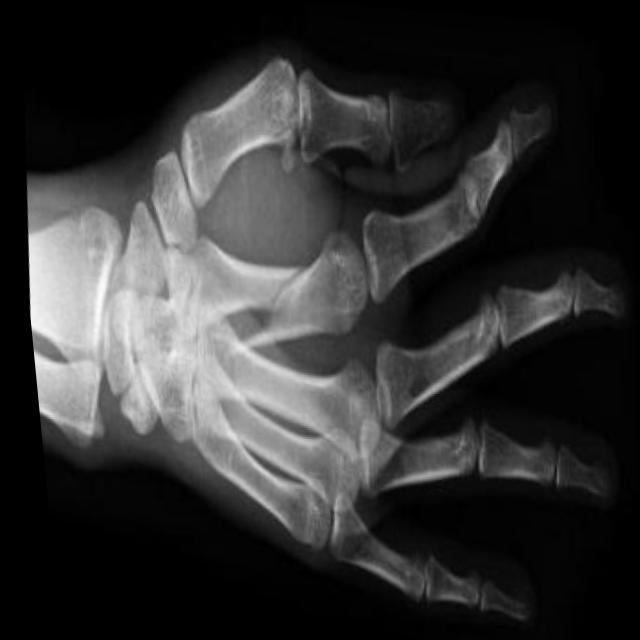fracture: (246, 234, 311, 354)
